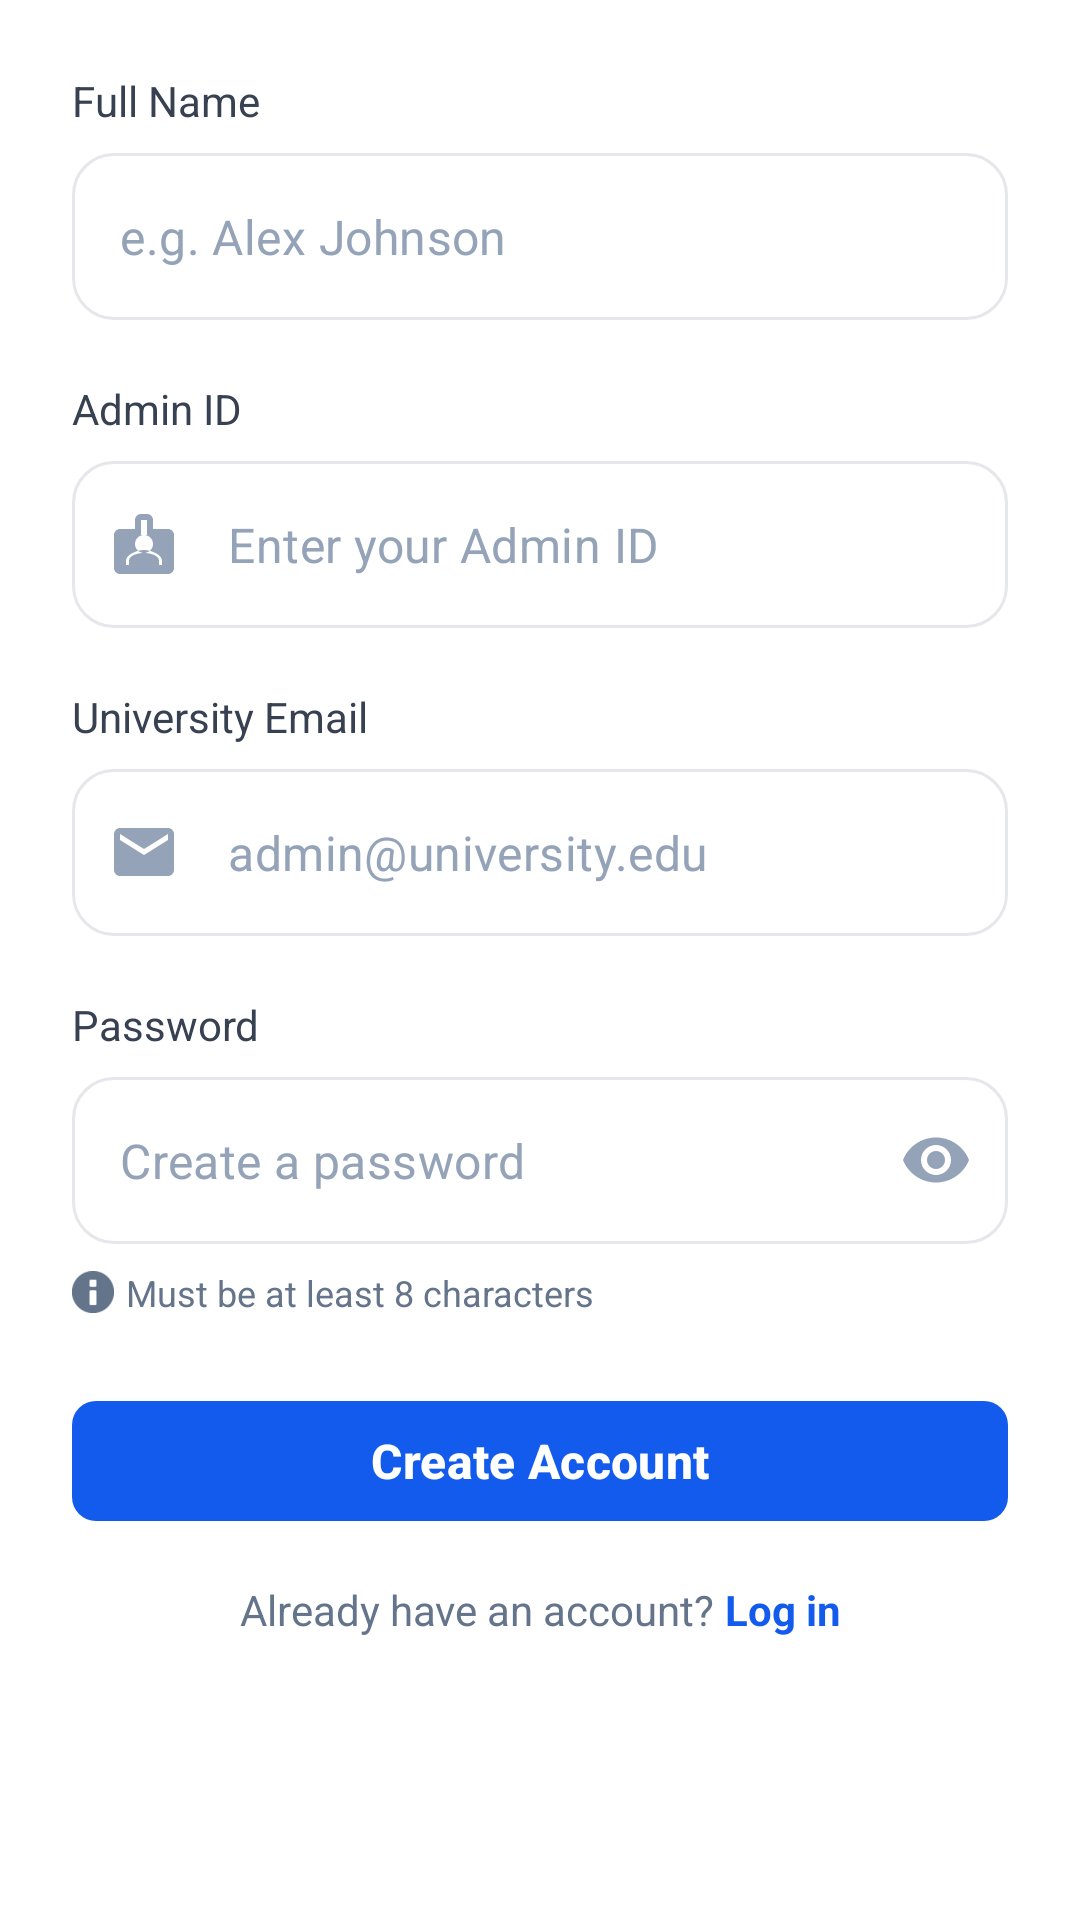

Named icons in this screenshot (1080w x 1920h) and their bounding boxes, BBox(x1, y1, x2, y2):
info: BBox(72, 1271, 114, 1313)
